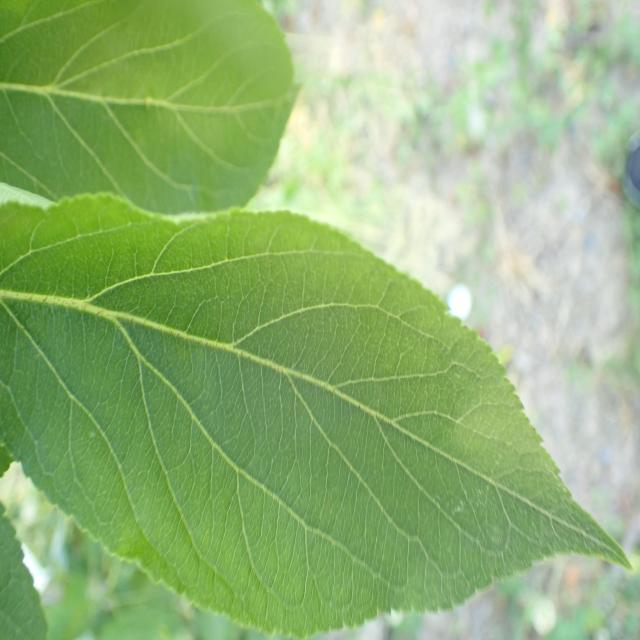healthy: (1, 193, 636, 638), (0, 0, 301, 218)
